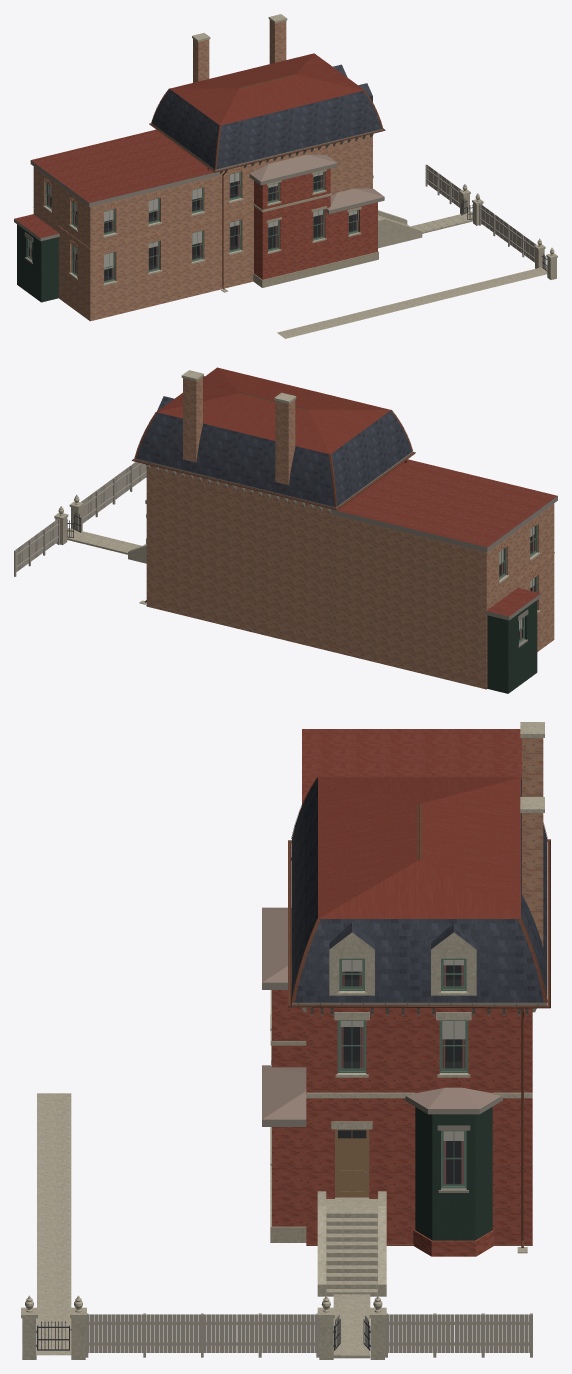
File: house_1730_prairie__as_mapped_1904.glb
3 renders of one model, top to bottom at view 1: azimuth 30°, elevation 25°; view 2: azimuth 150°, elevation 25°; view 3: azimuth 270°, elevation 25°, orthographic. The views are drawn at different scales.
Visible parts, largest first — view 1: house_1730_prairie__as_mapped_1904; view 2: house_1730_prairie__as_mapped_1904; view 3: house_1730_prairie__as_mapped_1904.
Part boxes in pixels (x1,y1,x2,y2): house_1730_prairie__as_mapped_1904: (14,14,557,338); house_1730_prairie__as_mapped_1904: (14,367,557,693); house_1730_prairie__as_mapped_1904: (21,722,550,1359).
Size of the model in its own units: 33.6 by 15.75 by 18.5.
Materials: 28 (16 with a texture image).
